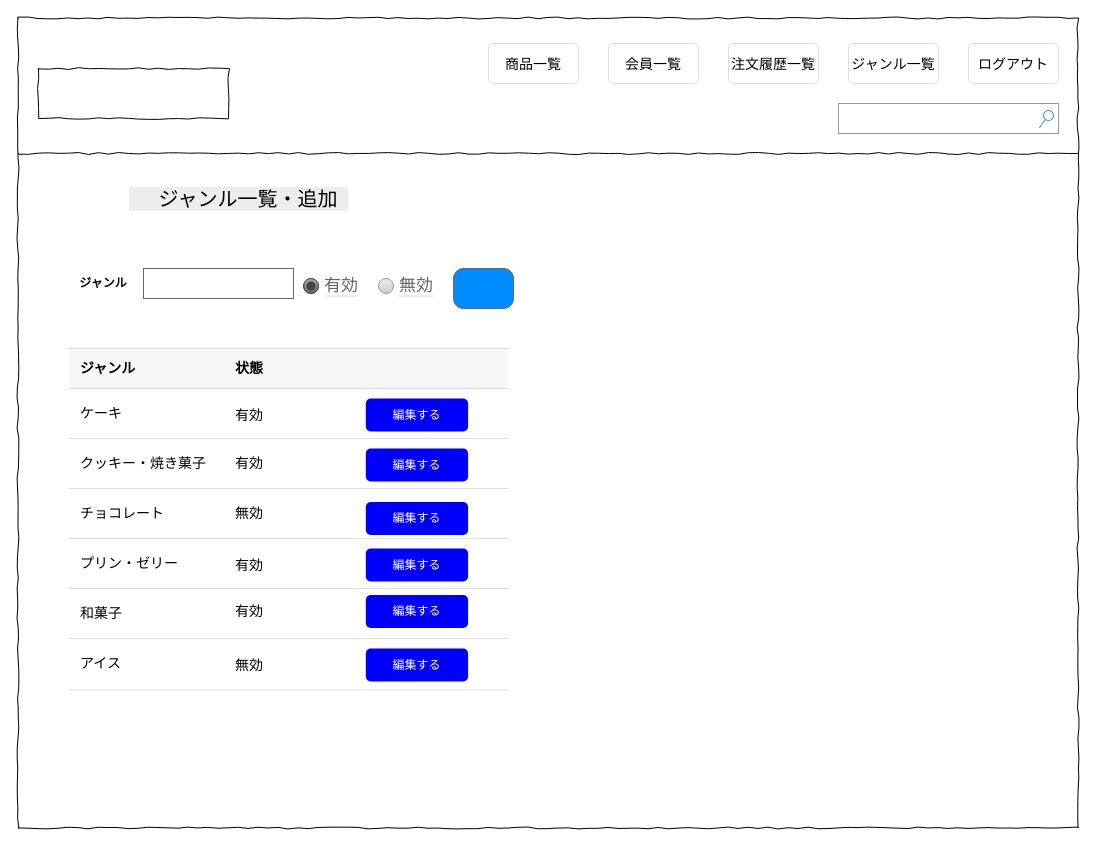
The diagram is 1096 pixels wide and 845 high, and some of its shapes have lost their labels. Here are the shapes that lost their labels. From the top down, the centre of each, then its label:
At pixel 133 93: "LOGO".
At pixel 948 118: "Search".
At pixel 483 288: "追加".
